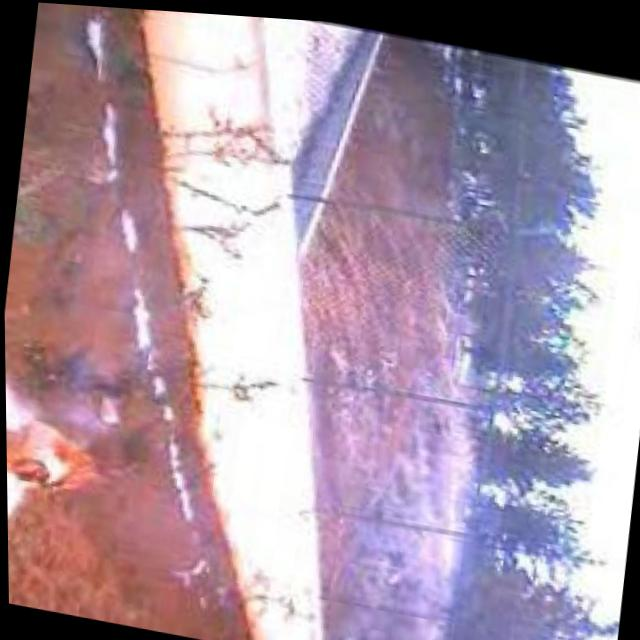Fire: (5, 410, 118, 504)
